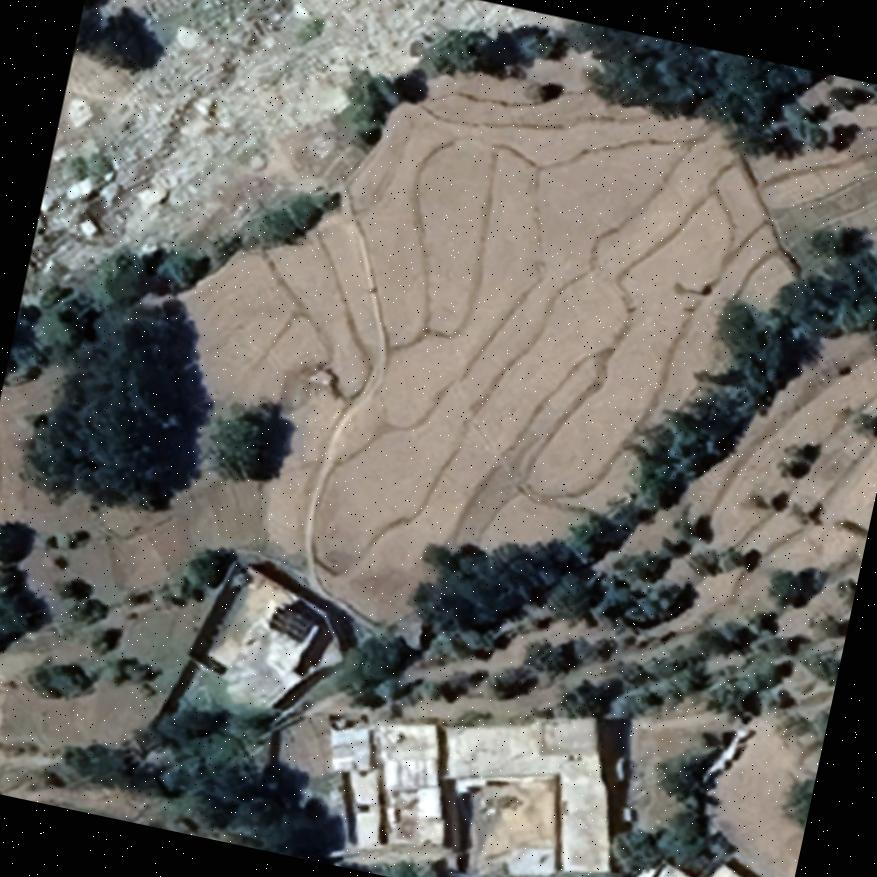Solarpanel: (260, 595, 322, 648)
